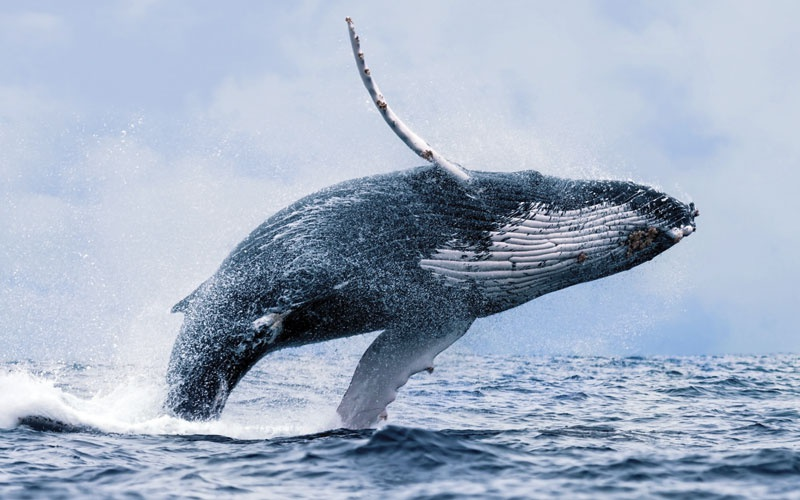humpback: (166, 172, 693, 415)
